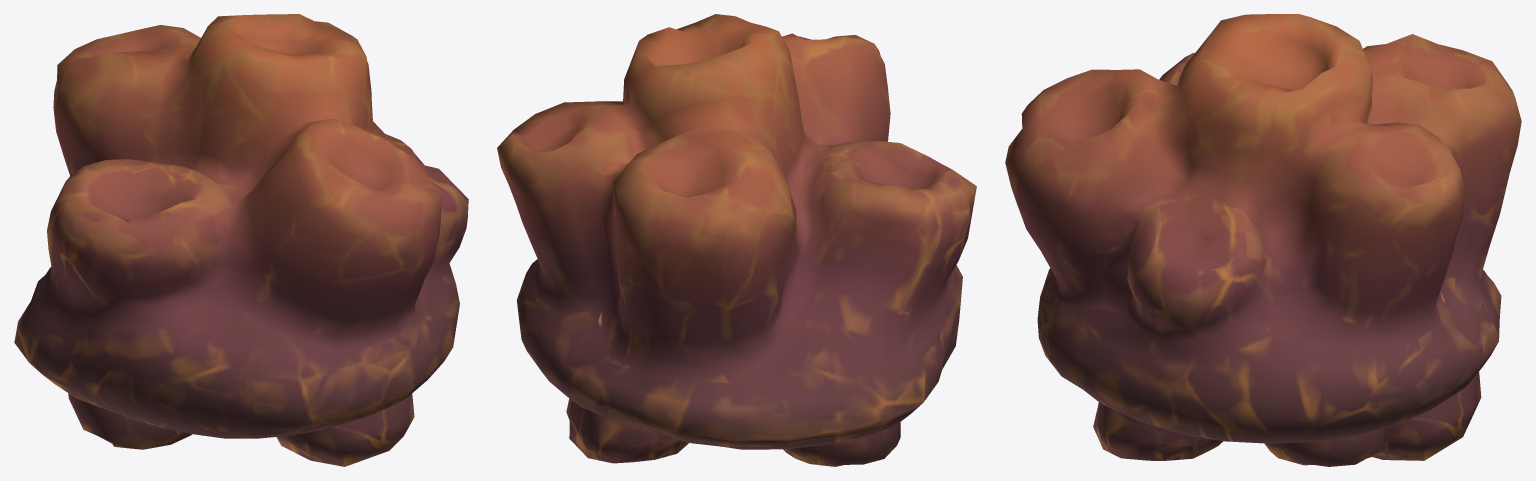
The model's file is Corals.fbx.
3 views of the same model, side by side, from view 1: azimuth 30°, elevation 25°; view 2: azimuth 150°, elevation 25°; view 3: azimuth 270°, elevation 25° (orthographic). The views are drawn at different scales.
Parts seen in each view (by area): view 1: big_coral, small_coral_2, small_coral_1; view 2: big_coral, small_coral_1; view 3: big_coral, small_coral_2, small_coral_1.
Part boxes in pixels (left/top/right/bottom): big_coral: left=14, top=14, right=468, bottom=438; small_coral_2: left=276, top=393, right=414, bottom=466; small_coral_1: left=68, top=393, right=192, bottom=449; big_coral: left=497, top=14, right=976, bottom=449; small_coral_1: left=566, top=312, right=900, bottom=466; big_coral: left=1005, top=14, right=1521, bottom=443; small_coral_2: left=1093, top=402, right=1387, bottom=466; small_coral_1: left=1373, top=291, right=1481, bottom=460.
Size of the model in its own units: 174 by 165 by 188.
2 materials, 1 textured.
